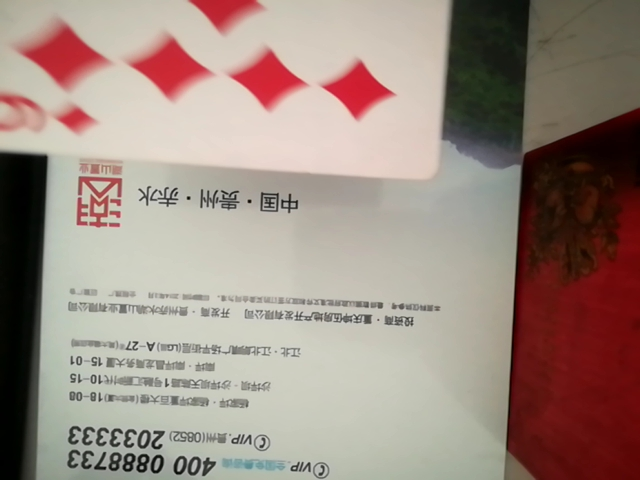fk 9: (1, 0, 464, 180)
